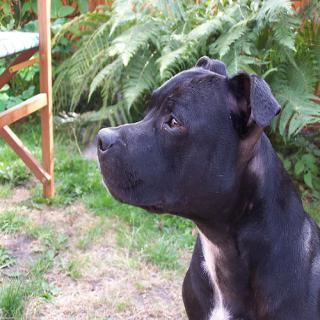dog: (94, 54, 280, 242)
